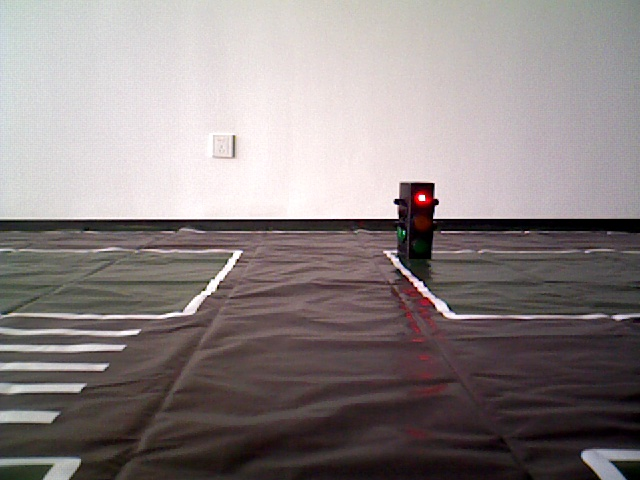red: (394, 183, 434, 260)
